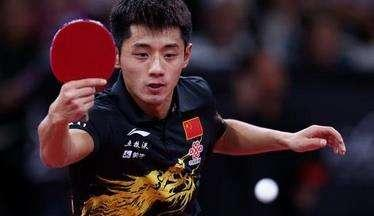ball: (250, 174, 280, 204)
